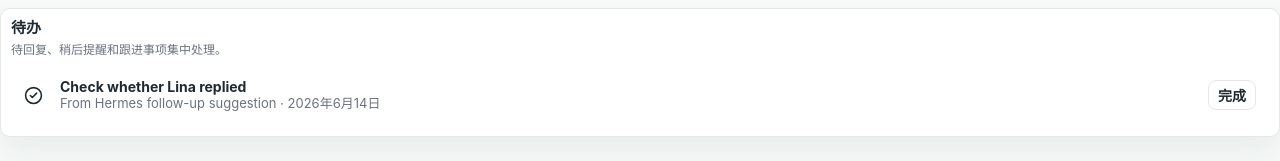
Test: FollowUpTodoPanel › loads follow-up reminders and marks one done through the backend
Expected: the text "Check whether Lina replied" is shown, [60, 78, 246, 95]
Click the button with aria-label "Mark follow-up done" at (1232, 95), box [1208, 80, 1256, 110]
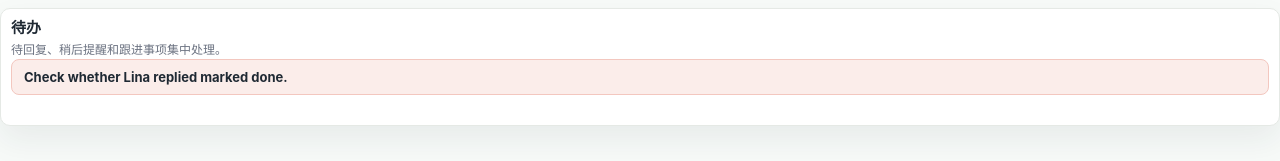
Expected: the text "Check whether Lina replied marked done." is shown, [11, 59, 1269, 95]
